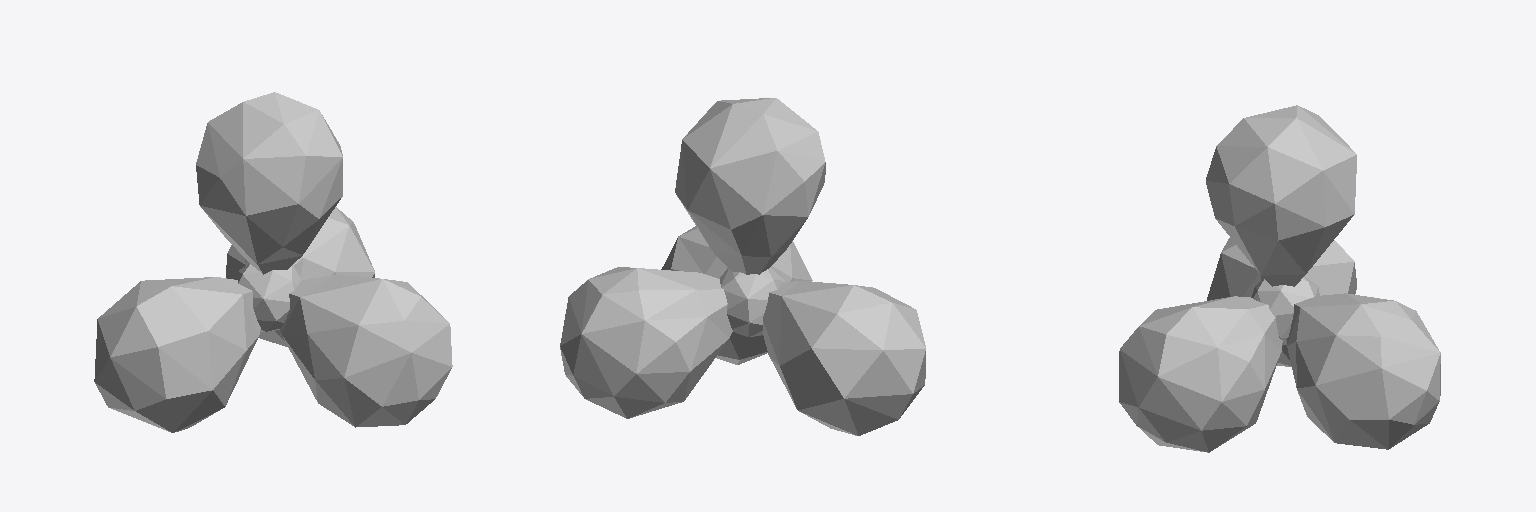
The model's file is whitebloodcell_4tetrahedral.obj.
3 views of the same model, side by side, from view 1: azimuth 30°, elevation 25°; view 2: azimuth 150°, elevation 25°; view 3: azimuth 270°, elevation 25° (orthographic).
Parts seen in each view (by area): view 1: Sphere.003, Sphere.002, Sphere.001, Sphere, Sphere.004; view 2: Sphere, Sphere.002, Sphere.001, Sphere.003, Sphere.004; view 3: Sphere.003, Sphere.001, Sphere, Sphere.002, Sphere.004.
Boxes of the visible parts, x1=… form: Sphere.003: x1=280, y1=275, x2=452, y2=427; Sphere.002: x1=94, y1=277, x2=260, y2=432; Sphere.001: x1=196, y1=92, x2=342, y2=274; Sphere: x1=226, y1=207, x2=374, y2=346; Sphere.004: x1=236, y1=264, x2=301, y2=331; Sphere: x1=560, y1=267, x2=732, y2=418; Sphere.002: x1=762, y1=281, x2=925, y2=435; Sphere.001: x1=675, y1=98, x2=825, y2=274; Sphere.003: x1=661, y1=226, x2=812, y2=364; Sphere.004: x1=720, y1=268, x2=784, y2=336; Sphere.003: x1=1119, y1=296, x2=1282, y2=452; Sphere.001: x1=1206, y1=105, x2=1356, y2=286; Sphere: x1=1286, y1=293, x2=1440, y2=449; Sphere.002: x1=1207, y1=238, x2=1356, y2=366; Sphere.004: x1=1251, y1=276, x2=1319, y2=345.
Size of the model in its own units: 4.67 by 4.4 by 4.25.